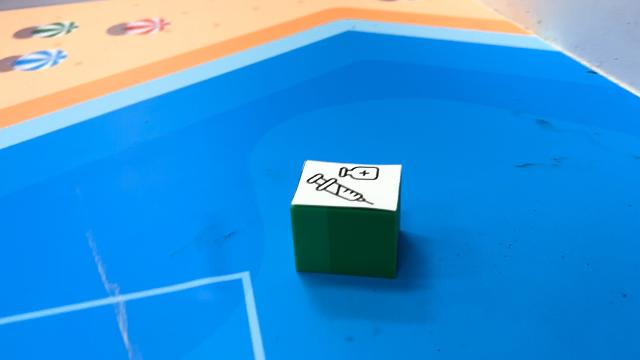syringe: (291, 159, 403, 279)
